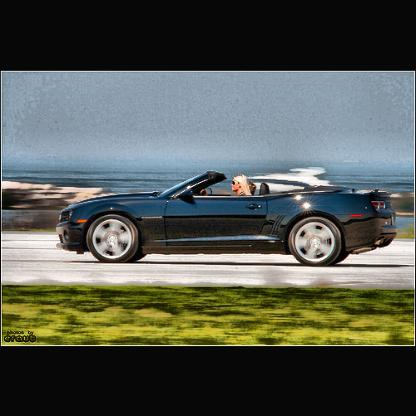Chevrolet Camaro Convertible 2012: (56, 172, 400, 265)
